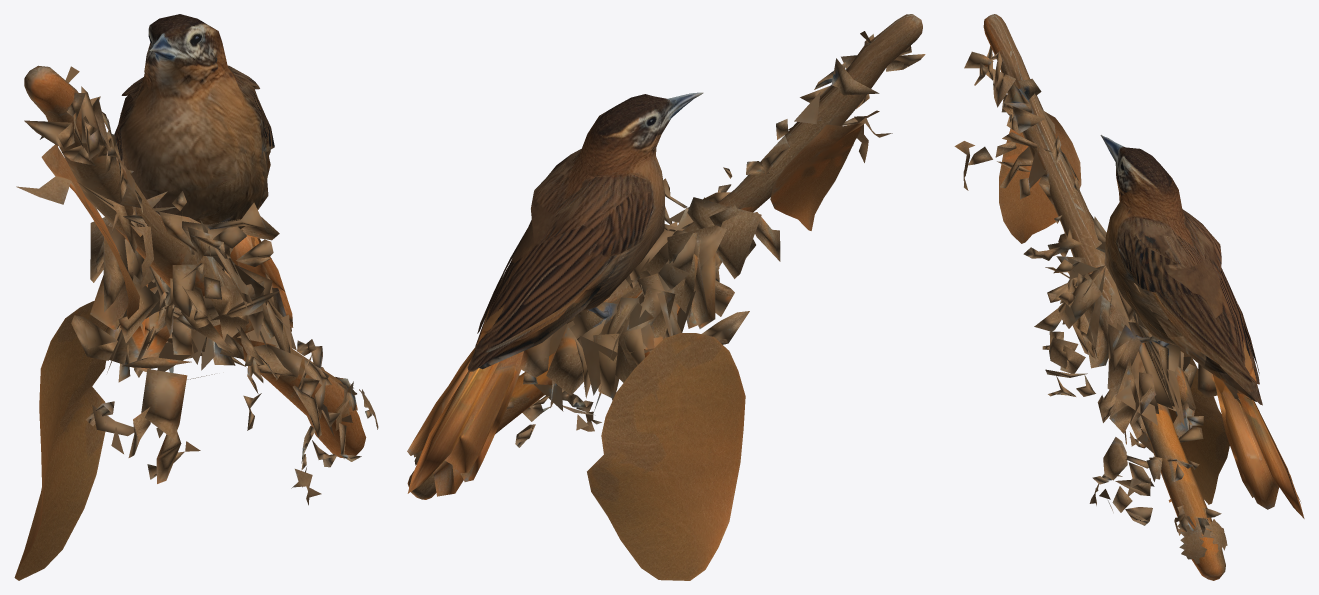
File: limpa_folha_do_nordeste_novo.glb
The picture shows the model from 3 angles, left to right: view 1: azimuth 30°, elevation 25°; view 2: azimuth 150°, elevation 25°; view 3: azimuth 270°, elevation 25°; orthographic projection. The views are drawn at different scales.
Size of the model in its own units: 0.7705 by 0.9546 by 0.6943.
Materials: 1 (1 with a texture image).
